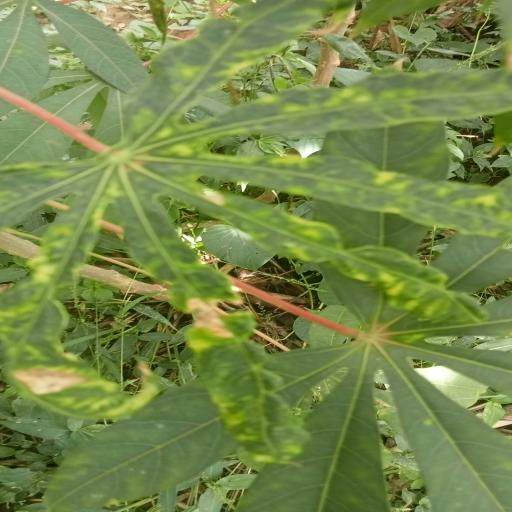Cassava_Mosaic: (0, 0, 512, 471)
